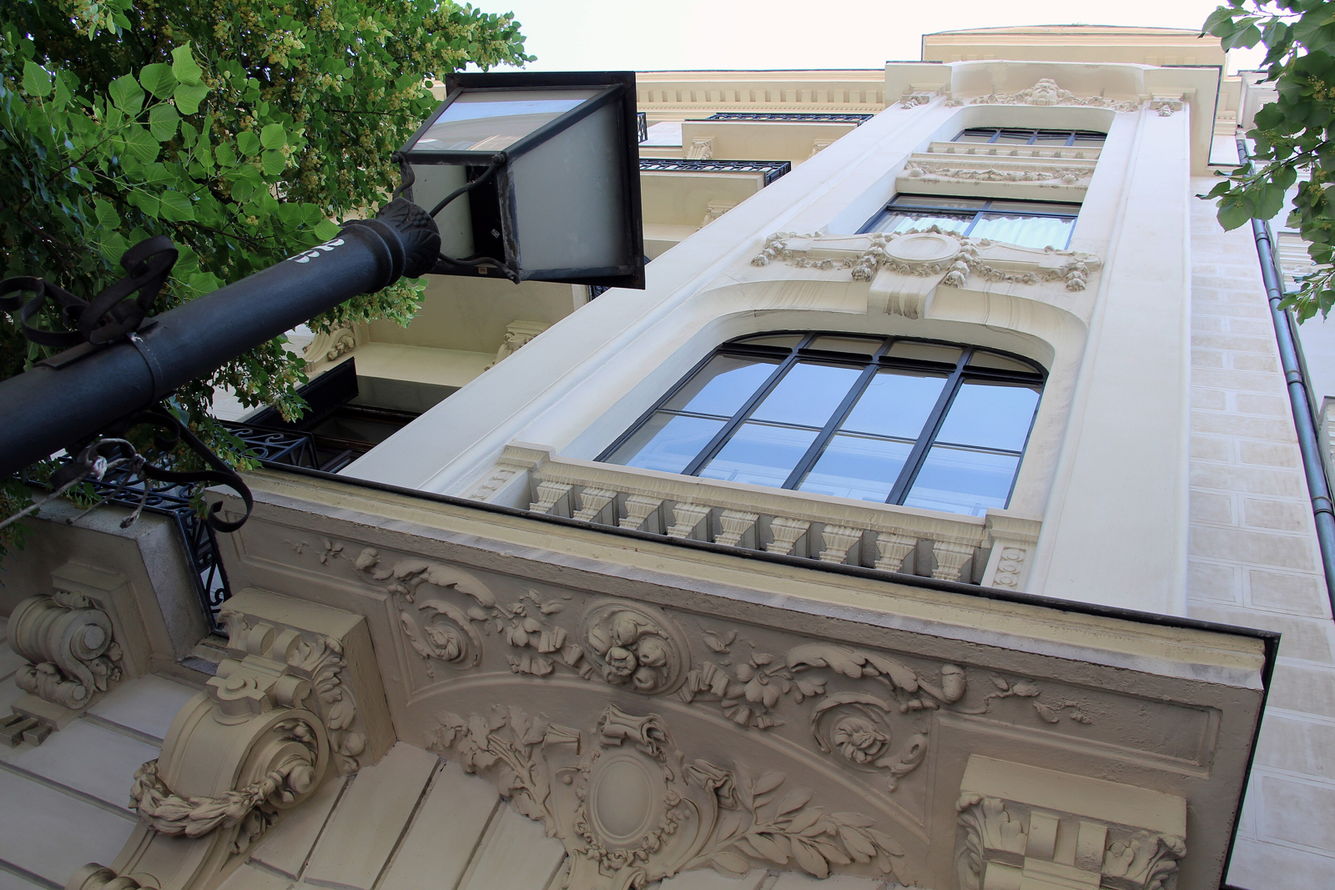fachada: (144, 15, 1334, 778)
poste: (100, 6, 674, 465)
